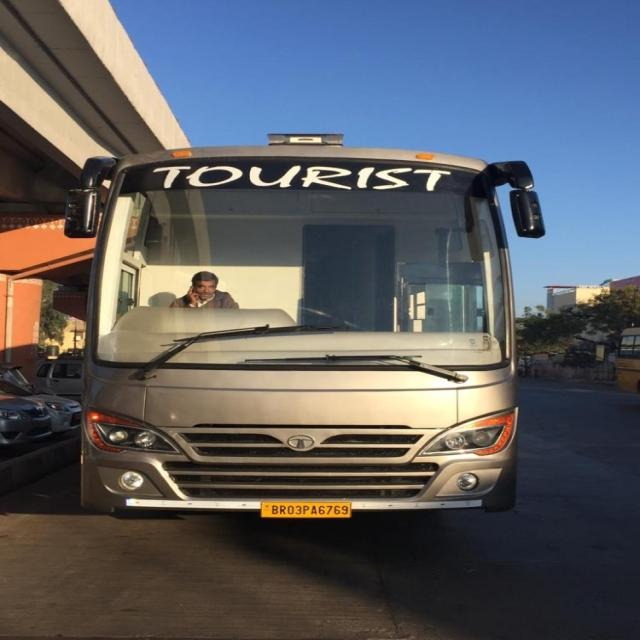bus: (65, 134, 545, 518)
